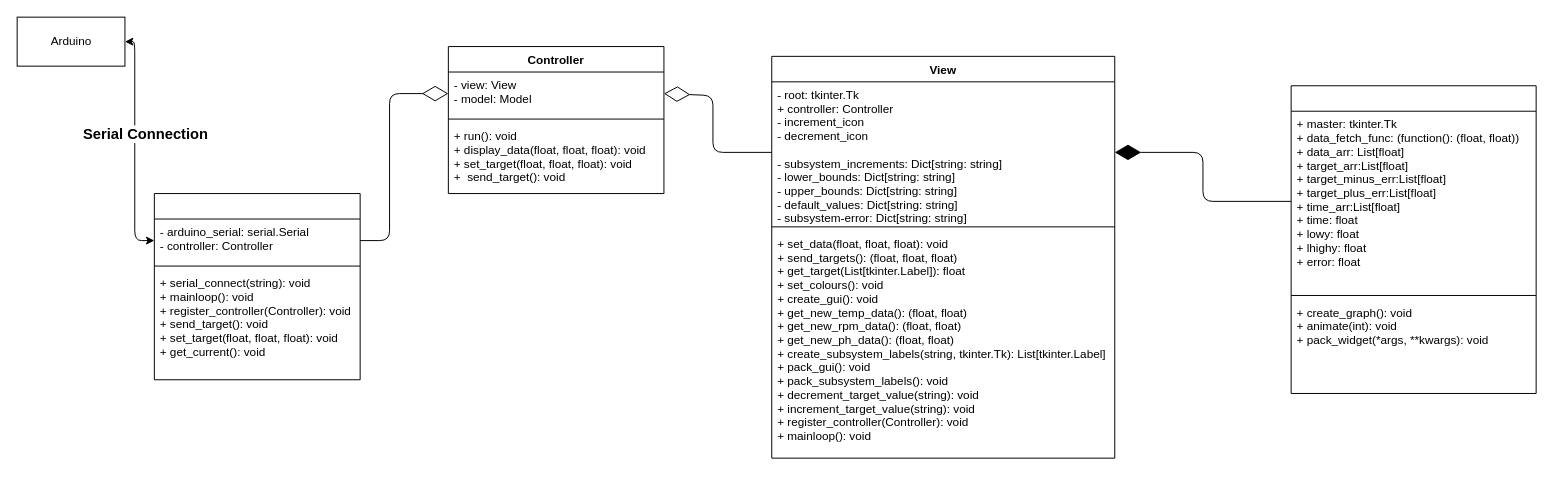
This 1553x478 diagram has some shape labels left out. Here are the shapes that lost their labels. From the top down, the box of each, then its label:
(1290, 85, 1536, 393): Subsystem_Graph(tkinter.Frame)
(153, 193, 360, 380): Model
